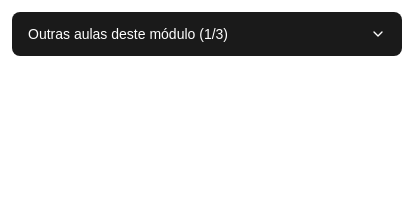
Scenario: LessonSidebar › has mobile accordion toggle
Click the button "Outras aulas deste módulo (1/3)".
click(207, 34)  # box [12,12,402,56]
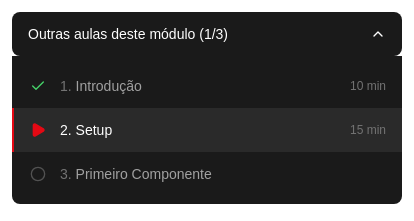
Expected: the button "Outras aulas deste módulo (1/3)" is expanded, [12,12,402,56]
